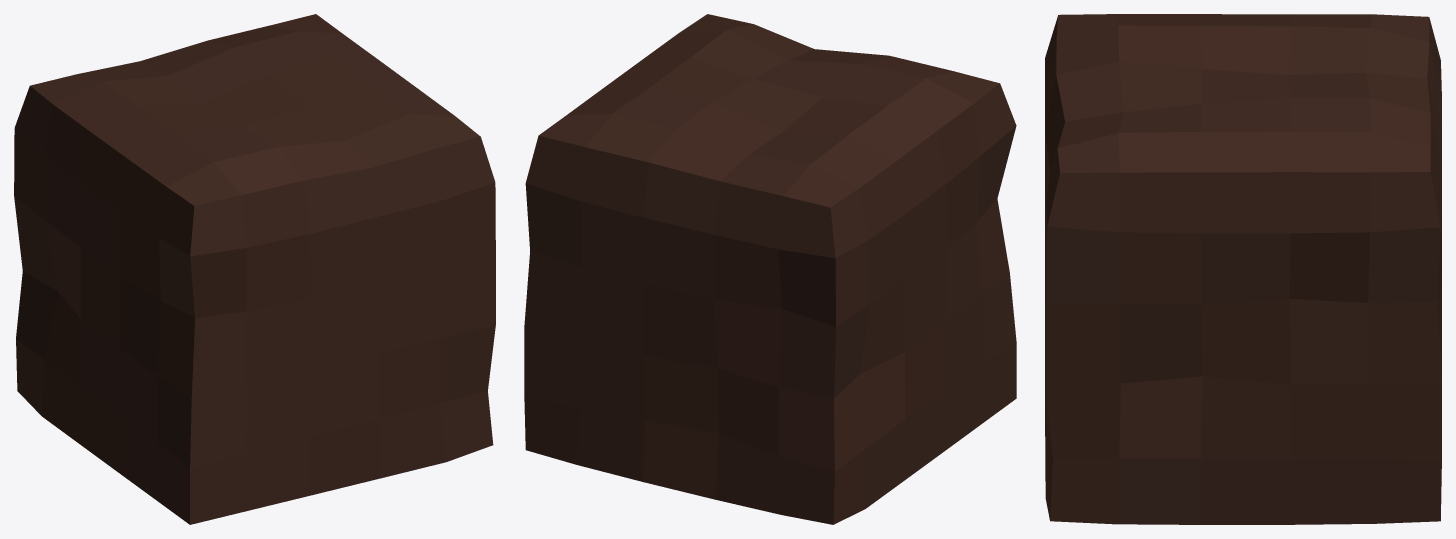
The model's file is basic_ground_2.fbx.
The picture shows the model from 3 angles, left to right: view 1: azimuth 30°, elevation 25°; view 2: azimuth 150°, elevation 25°; view 3: azimuth 270°, elevation 25°; orthographic projection. The views are drawn at different scales.
Parts seen in each view (by area): view 1: ground_2; view 2: ground_2; view 3: ground_2.
Part boxes in pixels (x1=…): ground_2: x1=14, y1=14, x2=495, y2=524; ground_2: x1=524, y1=14, x2=1016, y2=524; ground_2: x1=1045, y1=14, x2=1441, y2=524.
Size of the model in its own units: 400 by 405 by 400.
